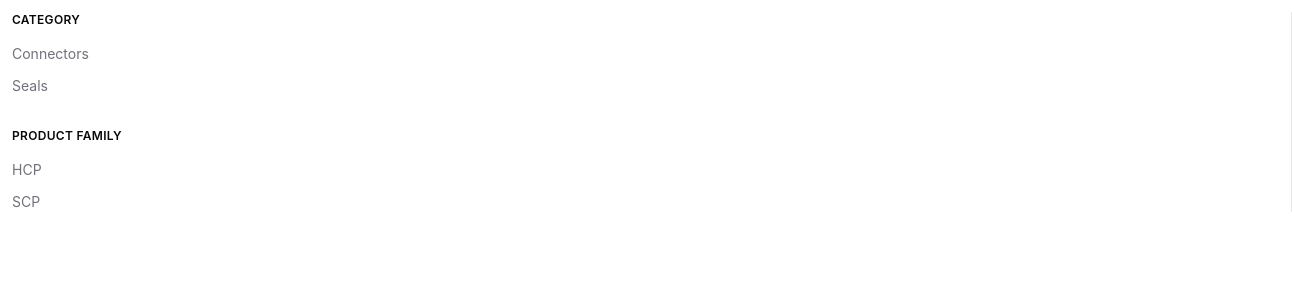
SearchSidebar › toggles filters and clears active filters
Click the button "Connectors". click: (50, 54)
box: 12,44 -> 1267,64
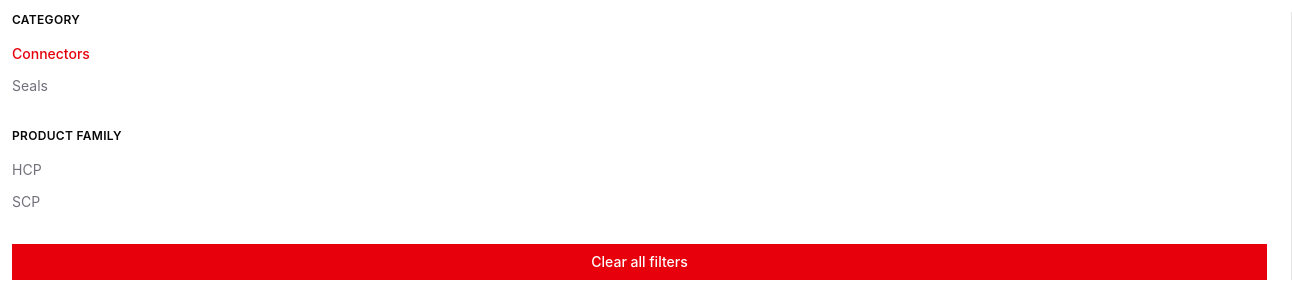
Check: the button "Clear all filters" is shown
Click the button "Clear all filters". click: (640, 262)
box: 12,244 -> 1267,280
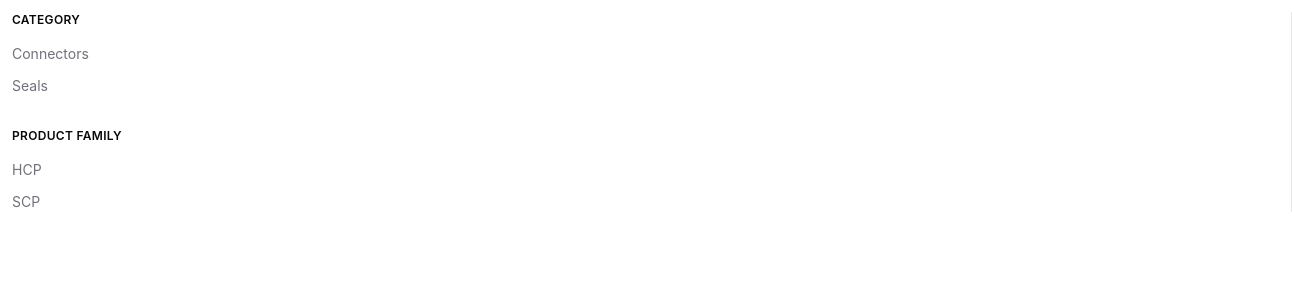
Check: the button "Clear all filters" is gone
